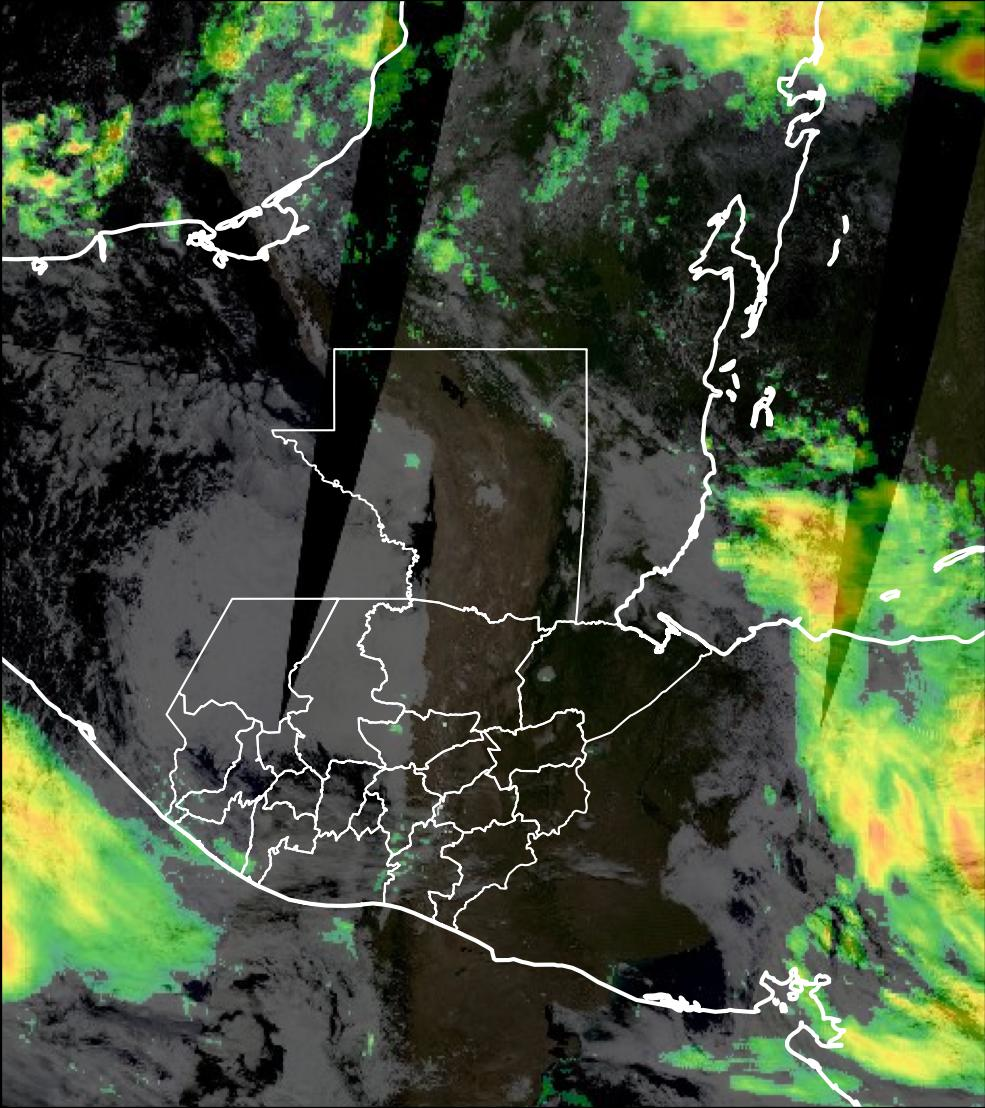precipitacion: (849, 772, 931, 885)
